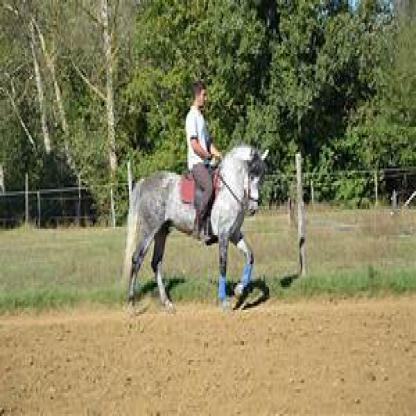horse: (127, 146, 270, 308)
